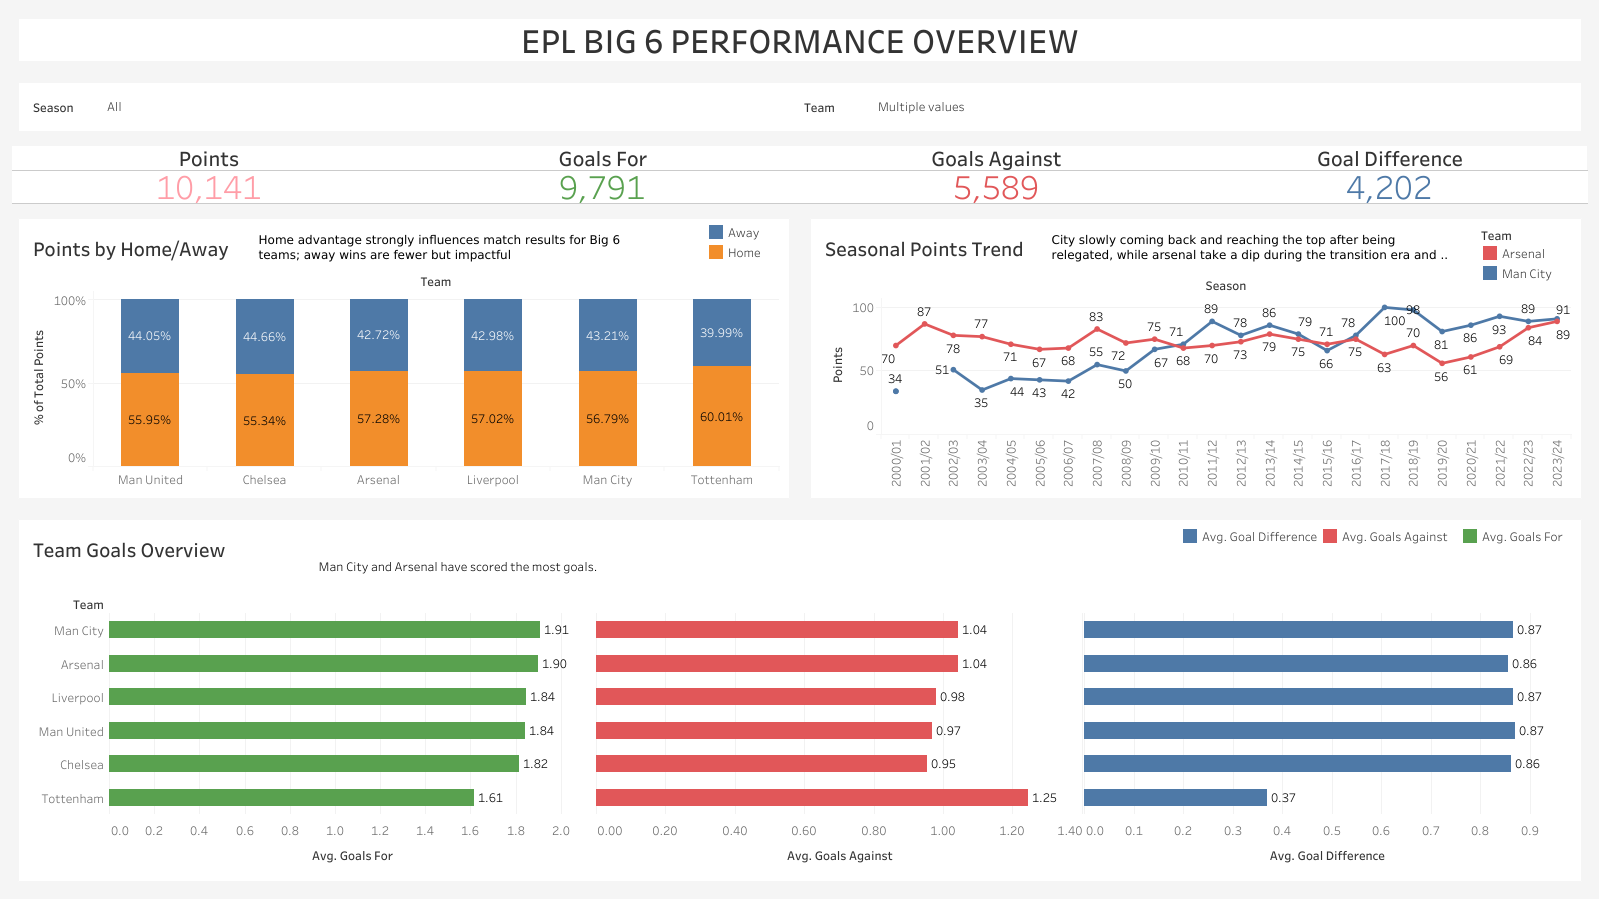

What the dashboard file says about the page in this screenshot:
{"tool":"tableau","page":{"name":"Dashboard 1","canvas":[1600,900],"ordinal":0},"visuals":[{"type":"title","box":[8,8,1584,64]},{"type":"filter","title":"Seasonal Points Trend","param":"[federated.0h7hhap0y5fwyq137mgb315hf51z].[none:Season:nk]","box":[29,93,771,28]},{"type":"filter","title":"Points by Home/Away","param":"[federated.0h7hhap0y5fwyq137mgb315hf51z].[none:Calculation_6172464822289358849:n","box":[800,93,771,28]},{"type":"worksheet","title":"KPIS","mark":"Automatic","box":[8,142,1584,66]},{"type":"worksheet","title":"Points by Home/Away","mark":"Bar","cols":["Team"],"box":[8,208,792,301]},{"type":"worksheet","title":"Seasonal Points Trend","mark":"Line","rows":["PTS_Source"],"cols":["Season"],"box":[800,208,792,301]},{"type":"legend","title":"Points by Home/Away","param":"[federated.0h7hhap0y5fwyq137mgb315hf51z].[none:HA:nk]","box":[706,222,67,58]},{"type":"legend","title":"Seasonal Points Trend","param":"[federated.0h7hhap0y5fwyq137mgb315hf51z].[none:Calculation_6172464822289358849:n","box":[1480,224,94,60]},{"type":"text","box":[256,226,404,41]},{"type":"text","box":[1049,228,404,37]},{"type":"worksheet","title":"Team Goals Overview","mark":"Automatic","rows":["Team"],"cols":["GF_Source","GA_Source","GD_Source"],"box":[8,509,1584,383]},{"type":"legend","title":"Team Goals Overview","param":"[federated.0h7hhap0y5fwyq137mgb315hf51z].[:Measure Names]","box":[1180,526,424,42]},{"type":"text","box":[316,551,285,30]}]}

Visuals, with their boxes in screenshot pixels (x1, y1, x2, y2), scaled from the page's 1600x900 canvas onto the 1599x899 screenshot:
title: <region>8, 8, 1591, 72</region>
"Seasonal Points Trend" filter: <region>29, 93, 800, 121</region>
"Points by Home/Away" filter: <region>800, 93, 1570, 121</region>
"KPIS" worksheet: <region>8, 142, 1591, 208</region>
"Points by Home/Away" worksheet (Bar marks): <region>8, 208, 800, 508</region>
"Seasonal Points Trend" worksheet (Line marks): <region>800, 208, 1591, 508</region>
"Points by Home/Away" legend: <region>706, 222, 773, 280</region>
"Seasonal Points Trend" legend: <region>1479, 224, 1573, 284</region>
text: <region>256, 226, 660, 267</region>
text: <region>1048, 228, 1452, 265</region>
"Team Goals Overview" worksheet: <region>8, 508, 1591, 891</region>
"Team Goals Overview" legend: <region>1179, 525, 1598, 567</region>
text: <region>316, 550, 601, 580</region>
